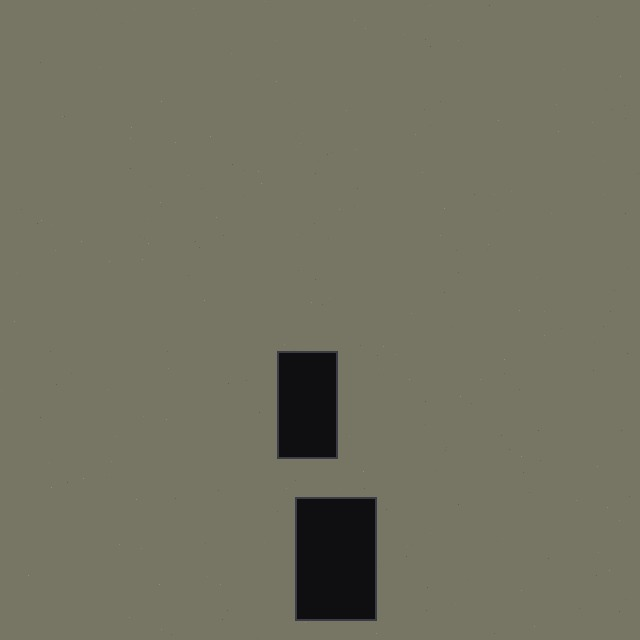phone: (295, 497, 457, 620), (277, 351, 398, 458)
